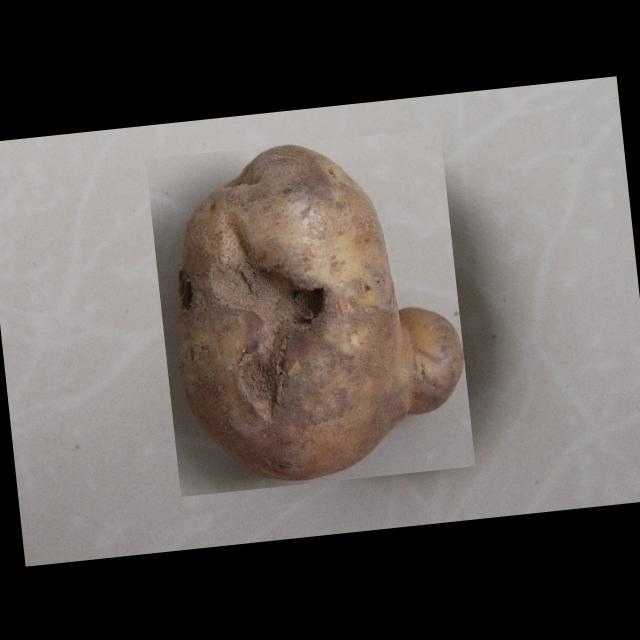Diseased-fungal potato: (144, 127, 474, 496)
